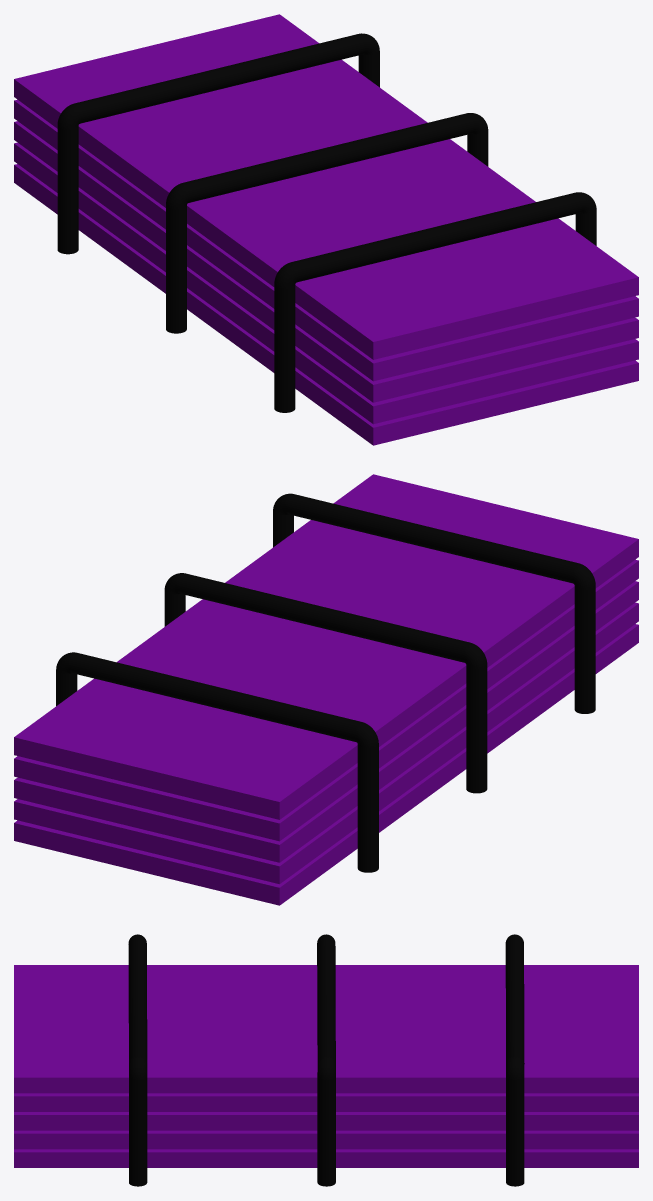
File: BatteryLevel5.fbx
3 renders of one model, top to bottom at view 1: azimuth 30°, elevation 25°; view 2: azimuth 150°, elevation 25°; view 3: azimuth 270°, elevation 25°, orthographic. The views are drawn at different scales.
Visible parts, largest first — view 1: BatteryLevel5; view 2: BatteryLevel5; view 3: BatteryLevel5.
Part boxes in pixels (box(x1,y1,x2,y2)): BatteryLevel5: box(14, 14, 638, 445); BatteryLevel5: box(14, 474, 638, 905); BatteryLevel5: box(14, 934, 638, 1186).
Size of the model in its own units: 51.46 by 22.07 by 100.
